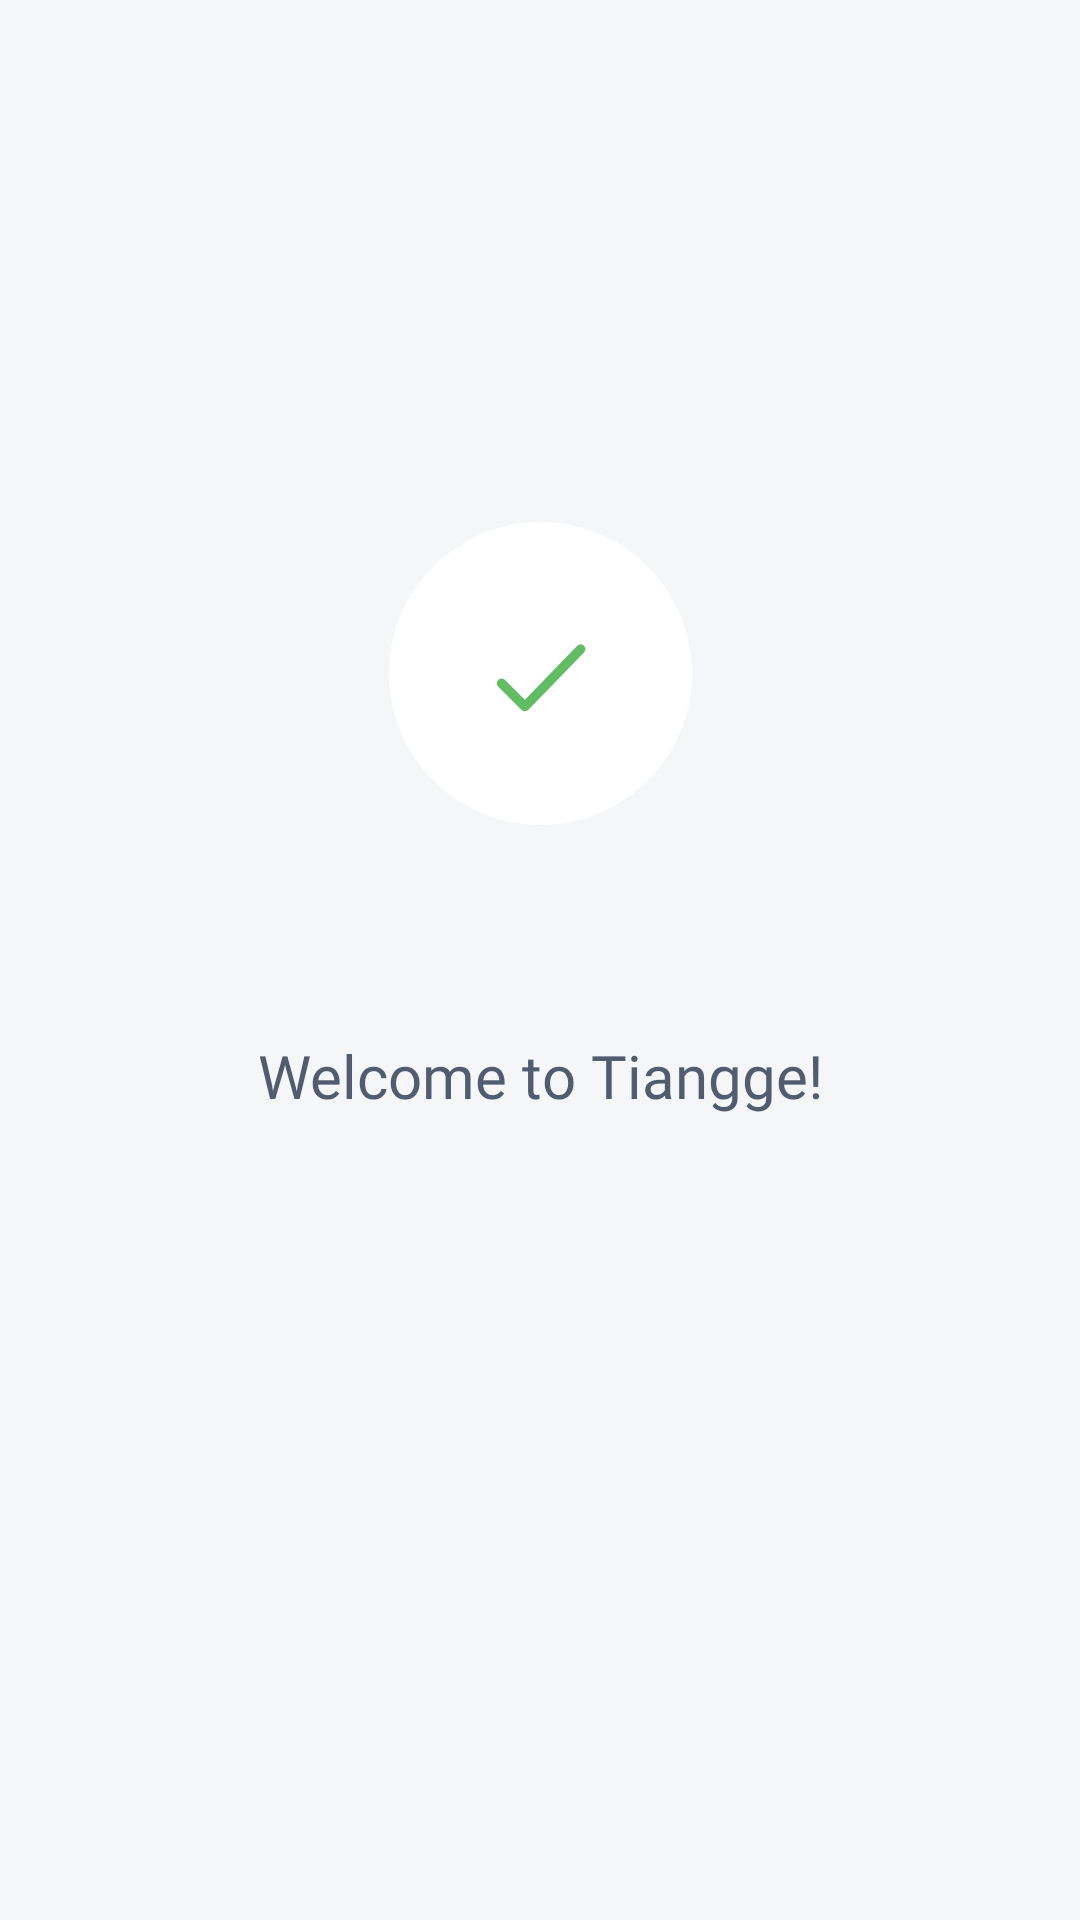

Where to tap for icons on this 1080×1920 app screen, as (x,y):
check: (540,673)
